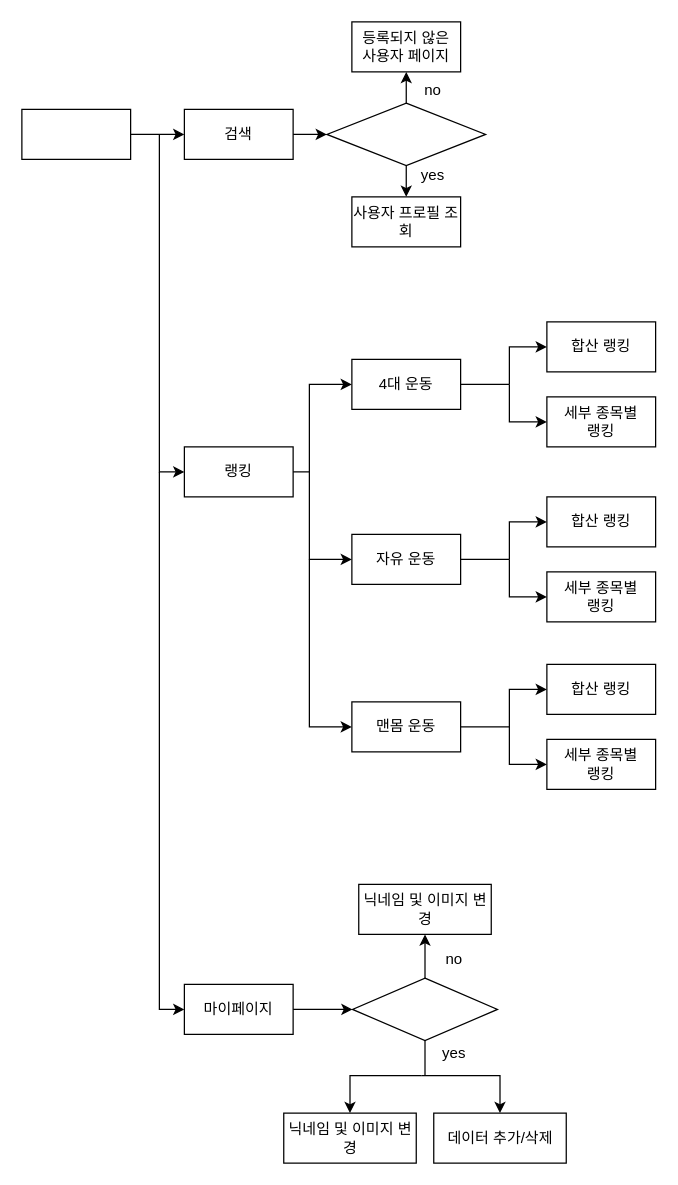
Image size: 678x1185. Some labels were removed from this diagram. The centre of each missing label's shape, as x and y in pixels:
관리자인가?: pixel 424 1009
사용자가 존재하는가?: pixel 406 134
접속: pixel 76 133
